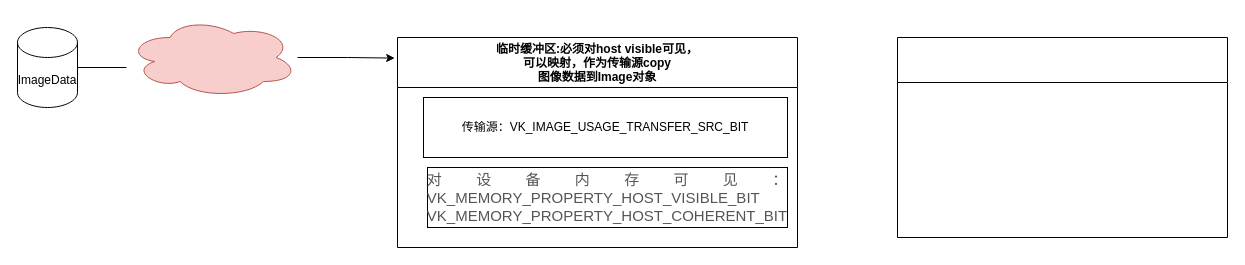
This 1245x265 diagram has some shape labels left out. Here are the shapes that lost their labels. From the top down, the centre of each, then its label:
At point 212,57: "先vkMapMemory, 然后memcpy， 最后vkUnmapMemory".
At point 1062,137: "TextureImage:Shader可以直接访问临时缓冲区的数据， 但效率没有访问Image对象高，图像中像素被称作纹素".
